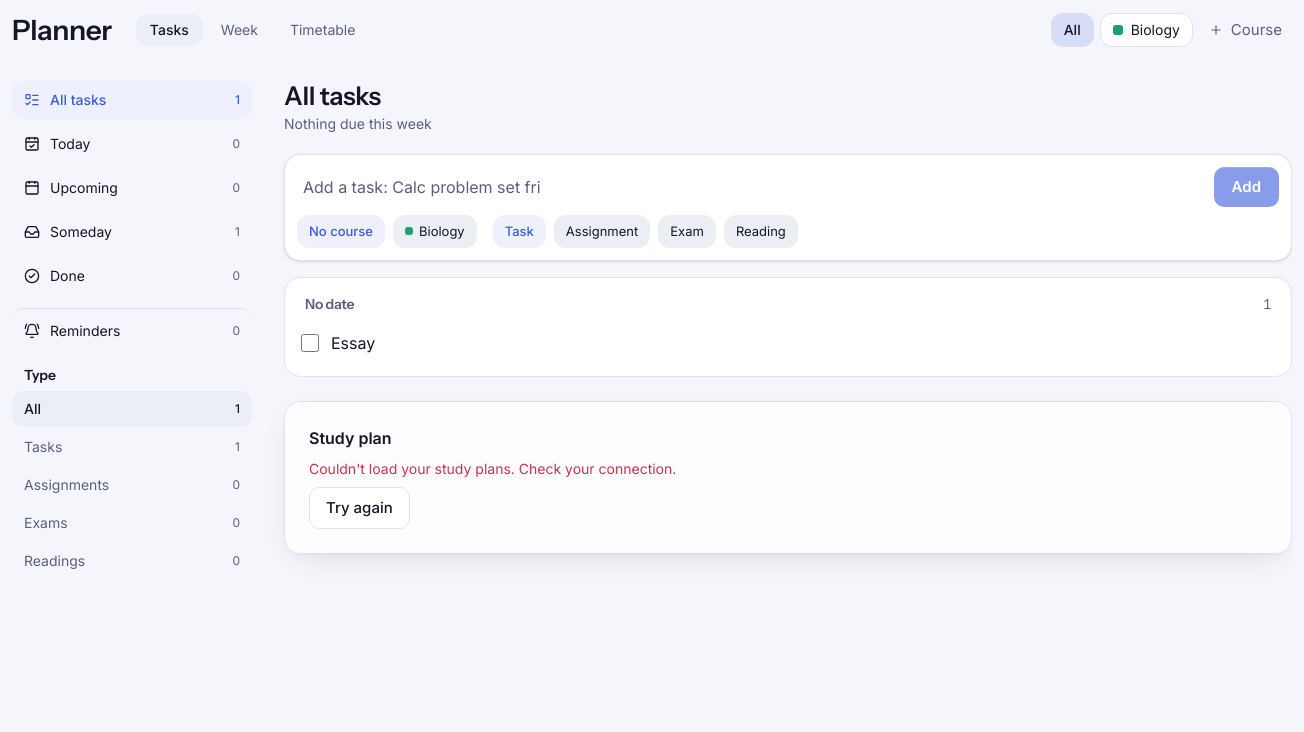
Scenario: Task list › a task ticked off moves to Done at once
Click the checkbox named "Mark Essay done": {"x": 310, "y": 343} [301,334,319,352]
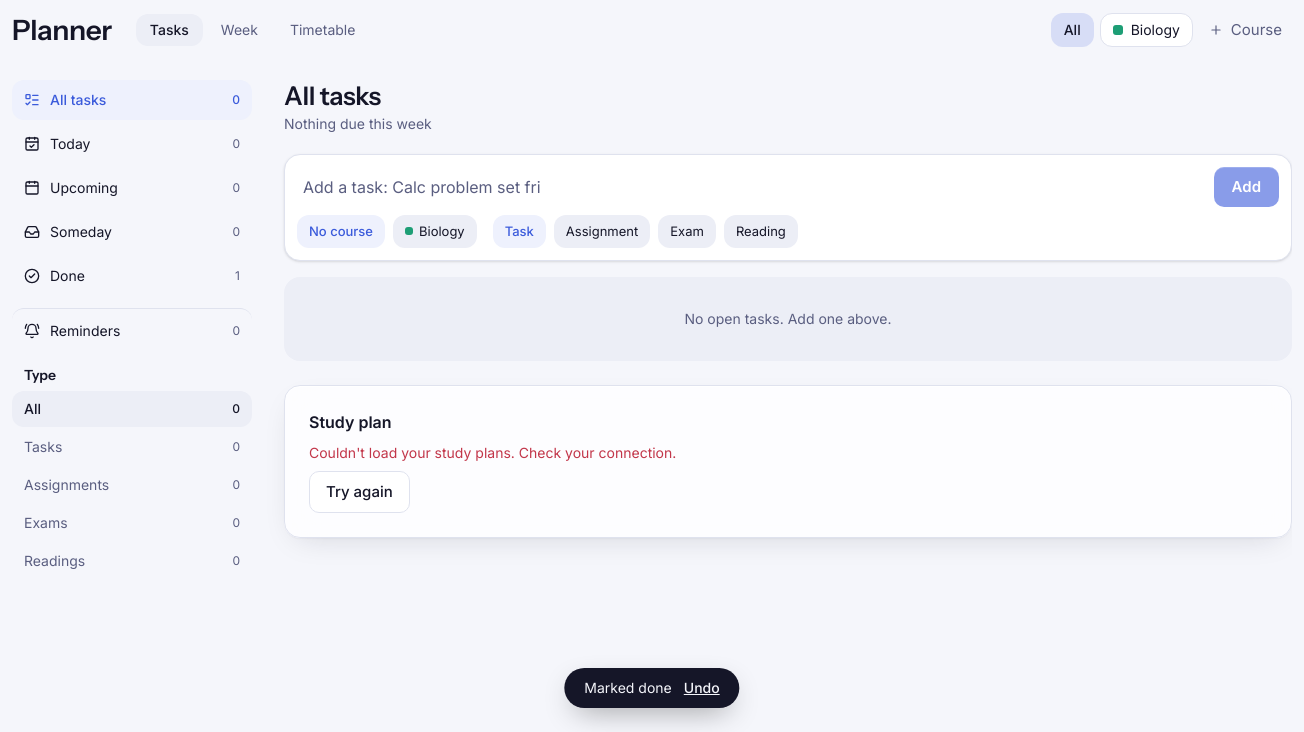
Expected: the button "Done 1" is shown, [12,256,252,296]
